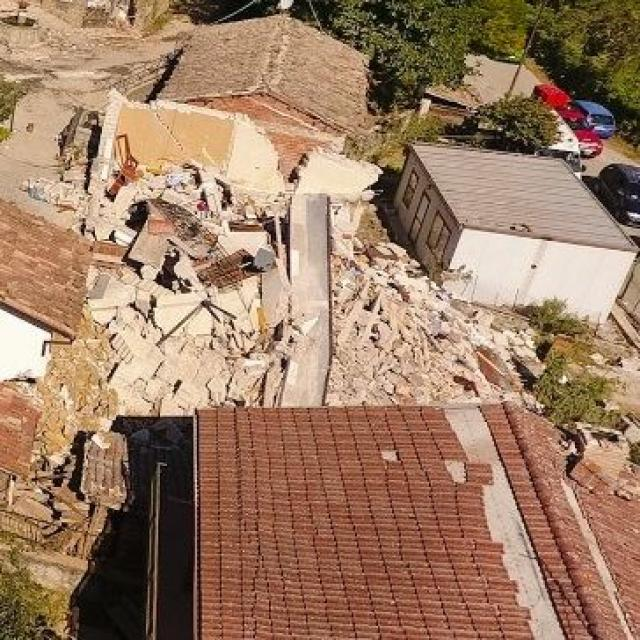collapsed_building: (99, 95, 462, 417)
